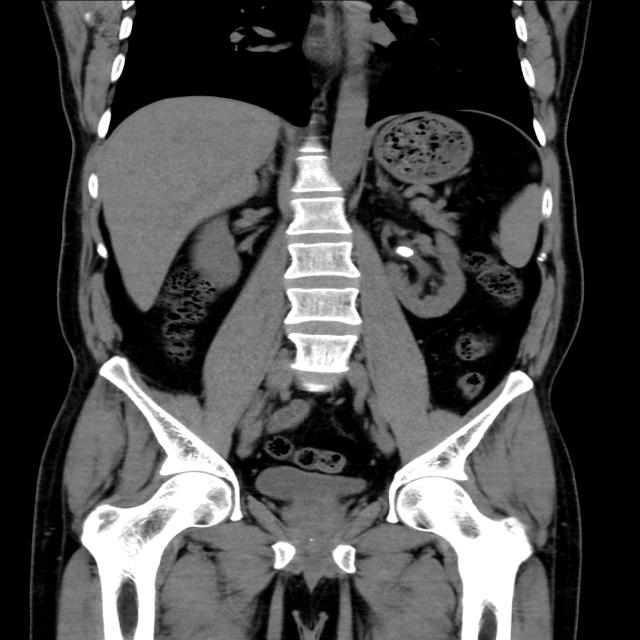kidneystone: (395, 245, 414, 257)
